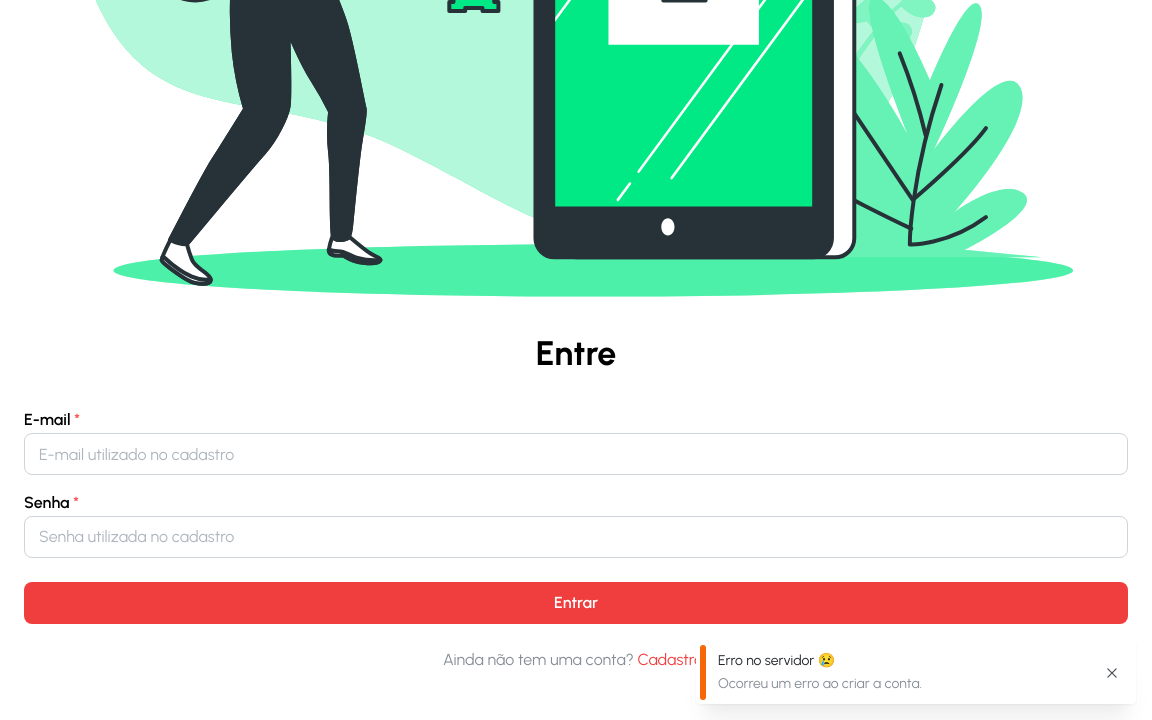
Scenario: shows notification when server responds with invalid credentials
(page scrolled)
Step 1. Type "email@email.com" into the field labelled "E-mail *" → (576, 454), box [24, 433, 1128, 475]
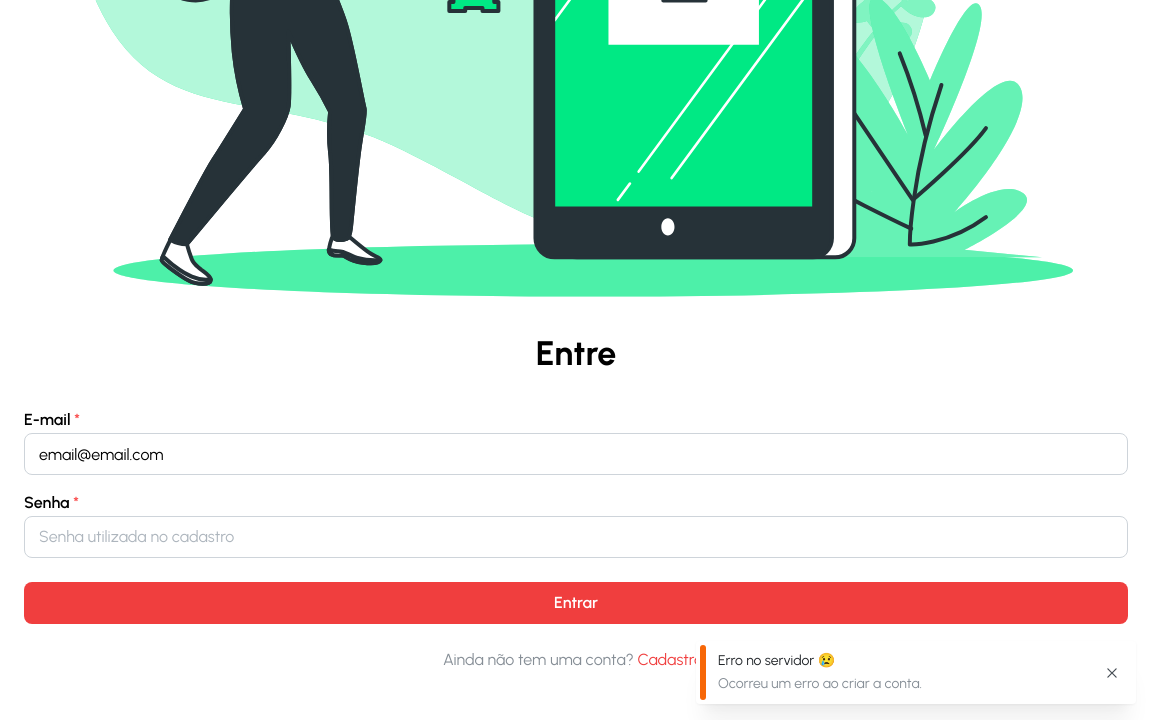
Step 2. Type "invalid123" into the password field labelled "Senha *" → (576, 537), box [24, 516, 1128, 558]
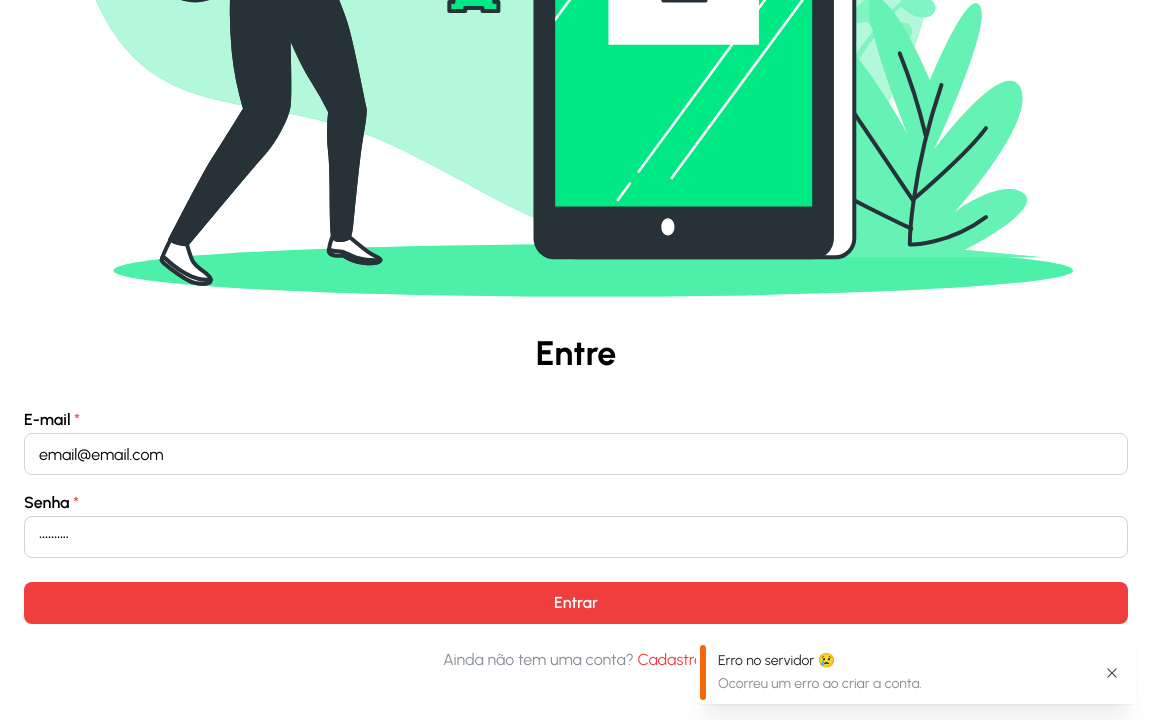
Step 3. Submit the form from the button "Entrar", box [24, 582, 1128, 624]
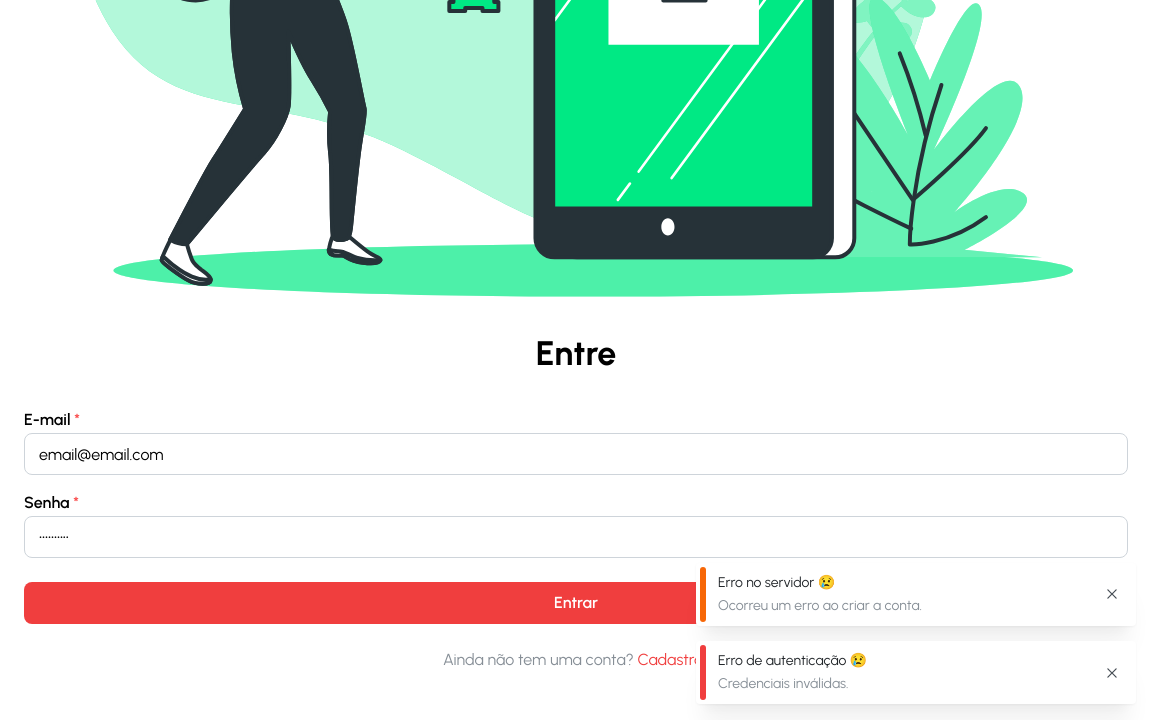
Expected: the text "Credenciais inválidas." is shown, [718, 675, 849, 692]
